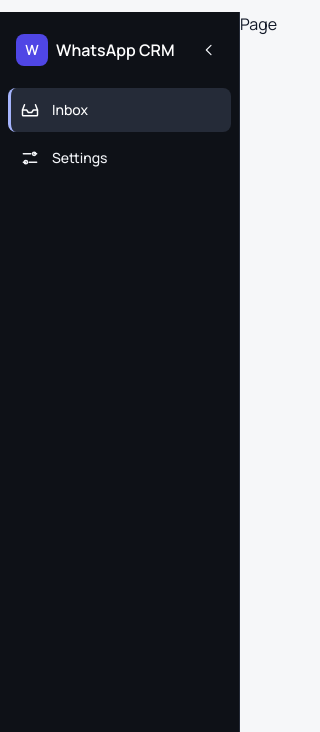
Scenario: AppShell › collapses on click and persists the choice for the next request
This screenshot has width=320, height=732.
Click the button named "Collapse navigation". click: {"x": 209, "y": 50}
box: [187,28,231,72]
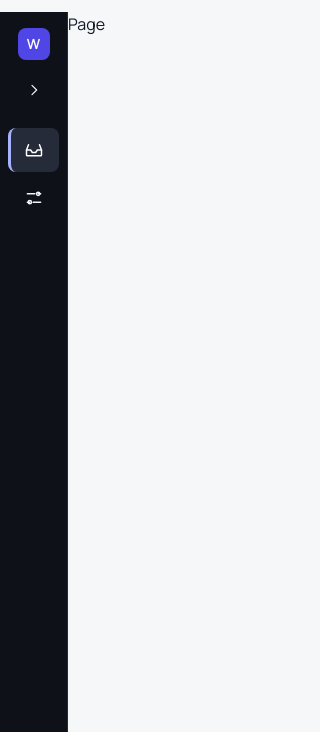
Check: the button named "Expand navigation" is collapsed, box [12,68,56,112]
